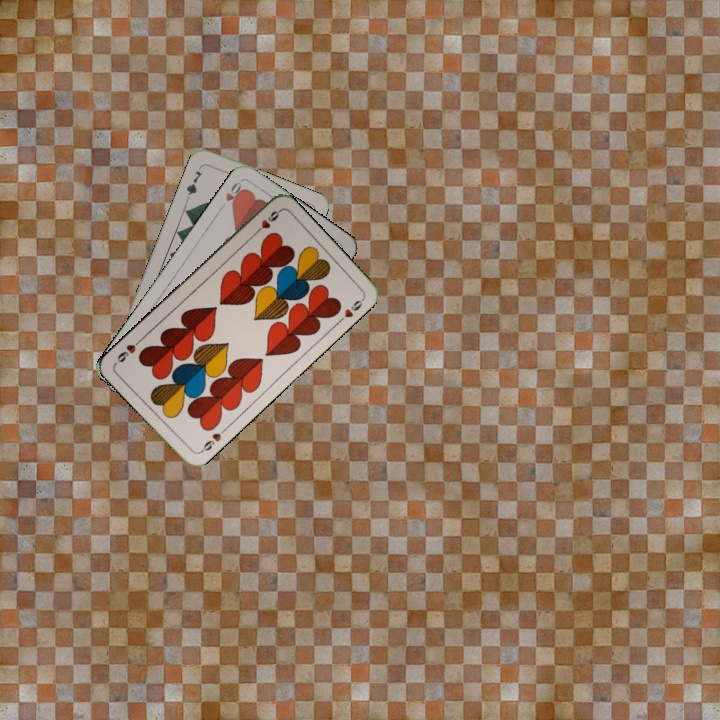G7: (182, 167, 205, 201)
H9: (250, 206, 283, 238), (196, 424, 229, 456)
HO: (216, 177, 247, 212)
